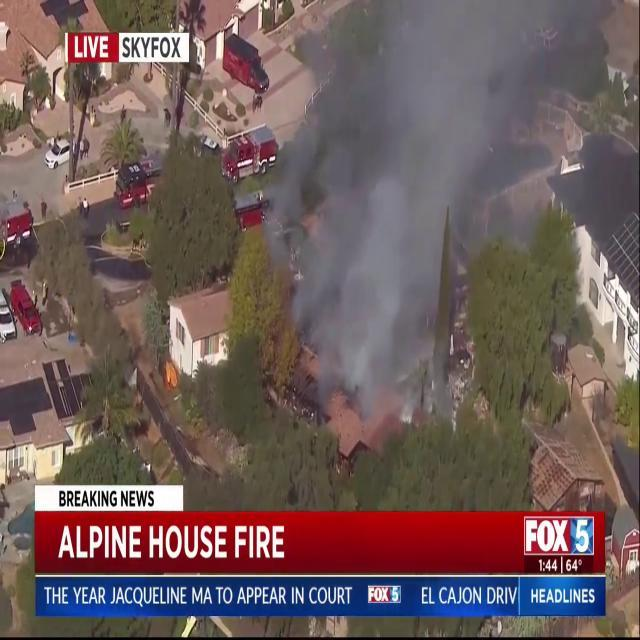Smoke: (264, 0, 570, 429)
